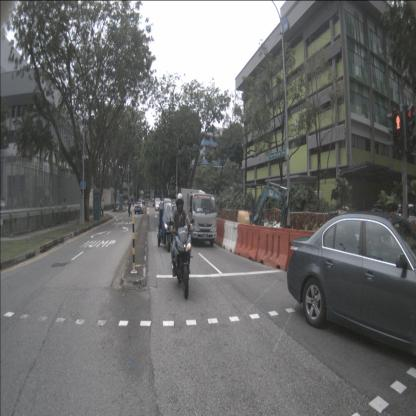human-pedestrian-adult: (62, 198, 67, 226), (127, 199, 132, 217), (101, 199, 105, 217)
movable_object-barrier: (286, 228, 324, 276), (256, 226, 292, 272), (235, 223, 262, 261), (222, 221, 241, 254), (212, 219, 227, 247)
vehicle-car: (286, 214, 416, 366), (134, 201, 146, 214), (154, 198, 160, 208), (156, 201, 161, 211)
vehicle-motorcycle: (170, 190, 192, 302), (158, 198, 174, 252)
vehicle-truck: (180, 188, 218, 247)
